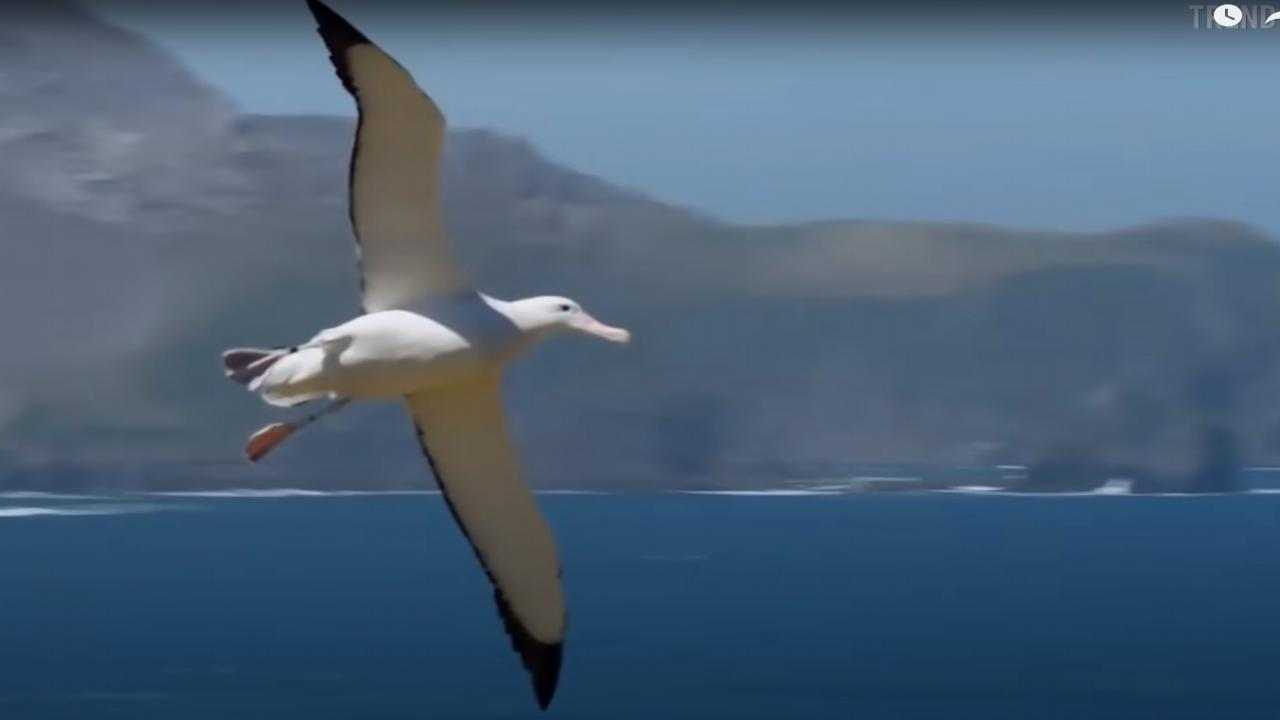Bird: (212, 0, 644, 720)
